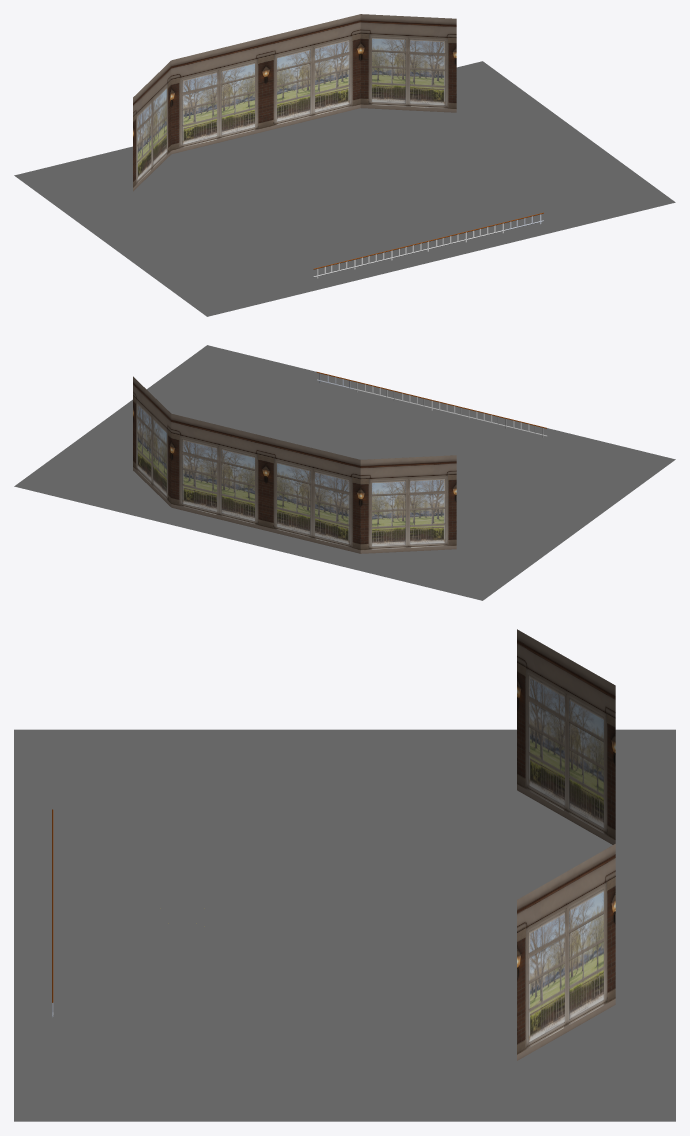
The picture shows the model from 3 angles, top to bottom: view 1: azimuth 30°, elevation 25°; view 2: azimuth 150°, elevation 25°; view 3: azimuth 270°, elevation 25°; orthographic projection. The views are drawn at different scales.
Parts seen in each view (by area): view 1: Plane, wall.001, Cube.009; view 2: Plane, wall.001, Cube.009; view 3: Plane, wall.001.
Boxes of the visible parts, box(x1,y1,x2,y2) form: Plane: box(14, 61, 675, 316); wall.001: box(133, 14, 456, 191); Cube.009: box(313, 212, 543, 278); Plane: box(14, 345, 675, 600); wall.001: box(133, 376, 456, 553); Cube.009: box(316, 372, 546, 437); Plane: box(14, 729, 675, 1121); wall.001: box(517, 629, 615, 1060).
Size of the model in its own units: 54.68 by 10.6 by 39.03.
Materials: 20 (4 with a texture image).
